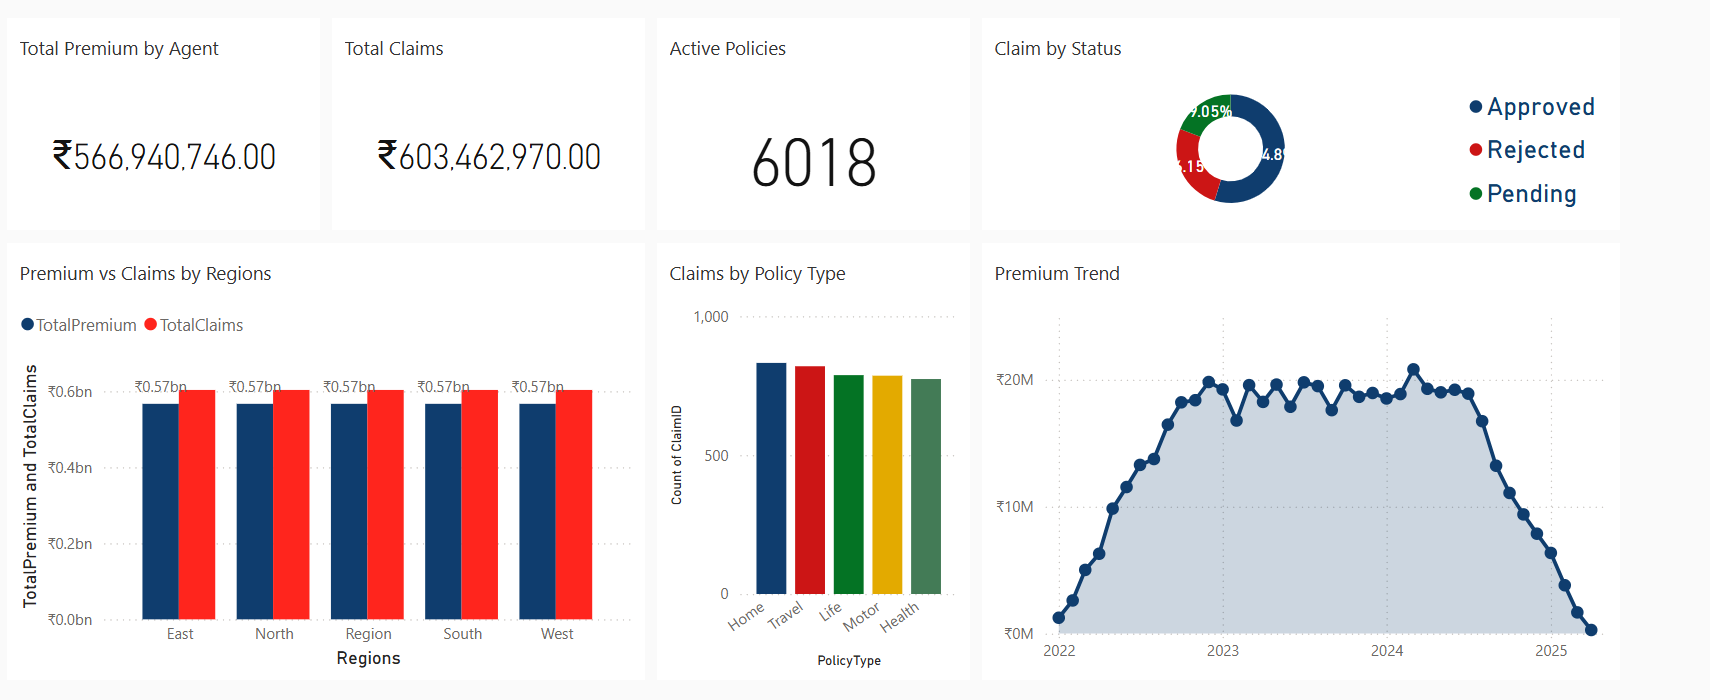

The dashboard page shown, as its layout file describes it:
{"tool":"powerbi","page":{"name":"Insurance Executive Overview ","canvas":[1280,720],"ordinal":0},"visuals":[{"type":"group","id":"g1","title":"Group 1","box":[27.4,96.1,1222.6,142.7],"z":0},{"type":"card","title":"Total Premium","fields":{"Values":["Fact_Premiums.TotalPremium"]},"box":[27.4,96.1,279.9,140.9],"z":0,"group":"g1"},{"type":"textbox","box":[27.4,16.5,1222.6,61.7],"z":1000},{"type":"card","title":"Total Claims","fields":{"Values":["Fact_Premiums.TotalClaims"]},"box":[345.8,96.1,279.9,140.9],"z":1000,"group":"g1"},{"type":"card","title":"Loss Ratio %","fields":{"Values":["Fact_Claims.Loss Ratio%"]},"box":[660,97.9,279.9,140.9],"z":2000,"group":"g1"},{"type":"lineChart","title":"Premium Trend","fields":{"Y":["Fact_Premiums.TotalPremium"],"Category":["Fact_Premiums.Date.Variation.Date Hierarchy.Year","Fact_Premiums.Date.Variation.Date Hierarchy.Month"]},"box":[27.4,267.6,1222.6,452.8],"z":2000},{"type":"card","title":"Active Policies","fields":{"Values":["Dim_Agent.active policies"]},"box":[970.1,96.1,279.9,140.9],"z":3000,"group":"g1"}]}

Visuals, with their boxes on the page's 1280x720 design canvas (x1, y1, x2, y2). These are canvas units, not pixel positions in the 1710x700 screenshot, which may show the page scaled, cropped or inside an application window:
"Group 1" group: [27,96,1250,239]
"Total Premium" card: [27,96,307,237]
textbox: [27,16,1250,78]
"Total Claims" card: [346,96,626,237]
"Loss Ratio %" card: [660,98,940,239]
"Premium Trend" lineChart: [27,268,1250,720]
"Active Policies" card: [970,96,1250,237]
